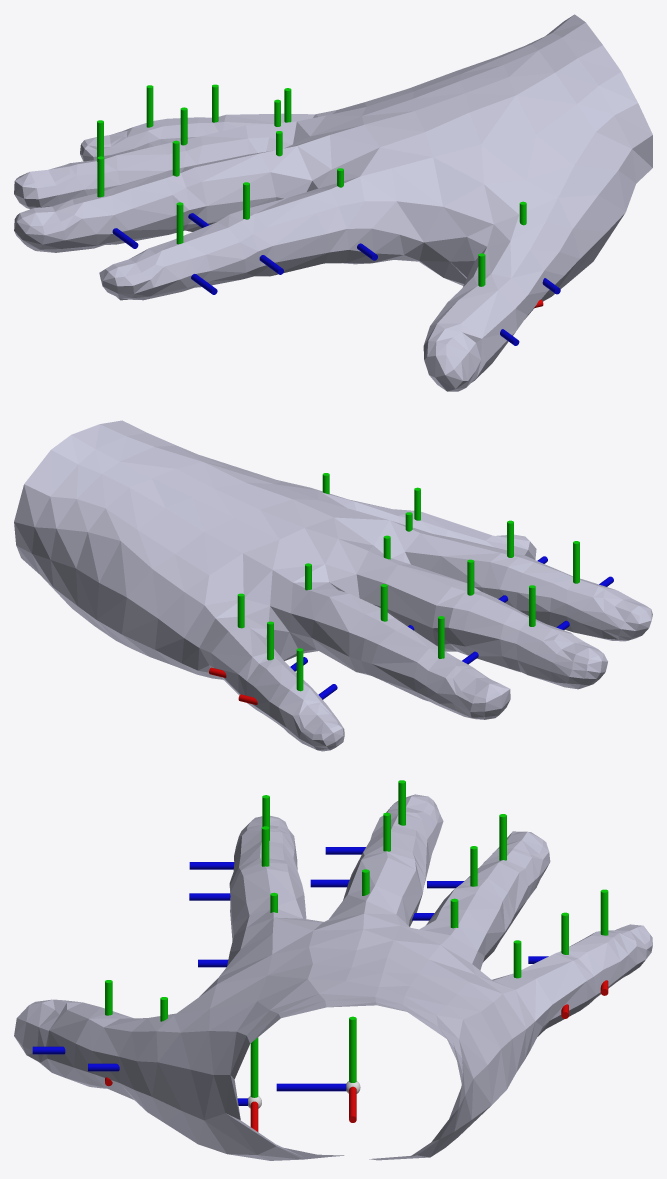
File: mano_hand.glb
3 views of the same model, one above another, from view 1: azimuth 30°, elevation 25°; view 2: azimuth 150°, elevation 25°; view 3: azimuth 270°, elevation 25° (orthographic). The views are drawn at different scales.
Visible parts, largest first — view 1: world; view 2: world; view 3: world.
Part boxes in pixels (box(x1,y1,x2,y2)): world: box(14, 14, 652, 391); world: box(14, 420, 652, 751); world: box(14, 780, 652, 1160).
Size of the model in its own units: 0.1947 by 0.0613 by 0.1677.
